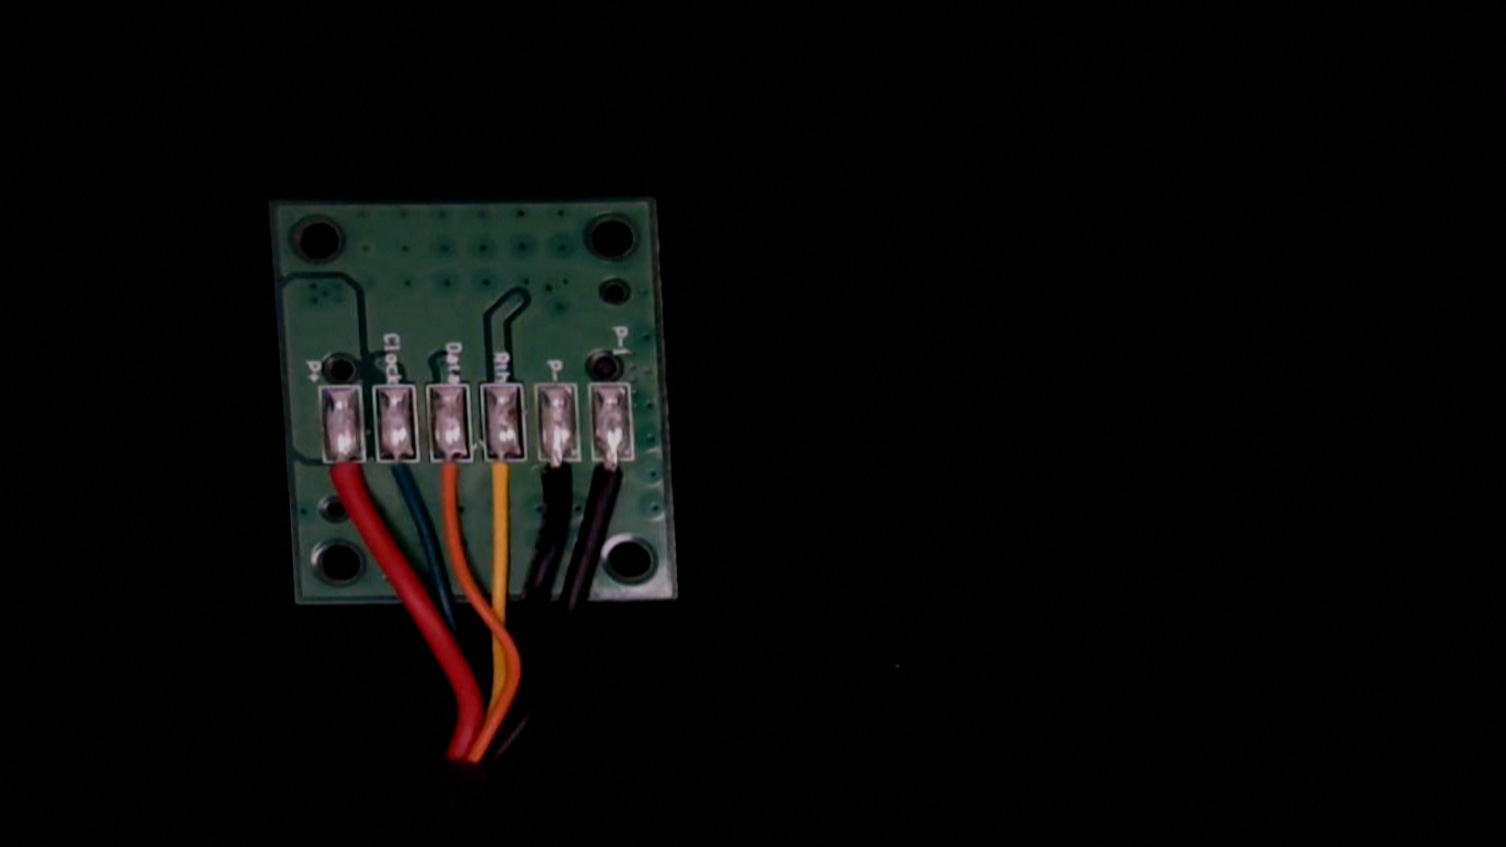Black: (536, 438, 581, 518)
Black1: (593, 440, 642, 520)
Green: (373, 434, 420, 510)
Orange: (428, 436, 473, 511)
Red: (319, 435, 369, 520)
Yellow: (485, 437, 526, 521)
